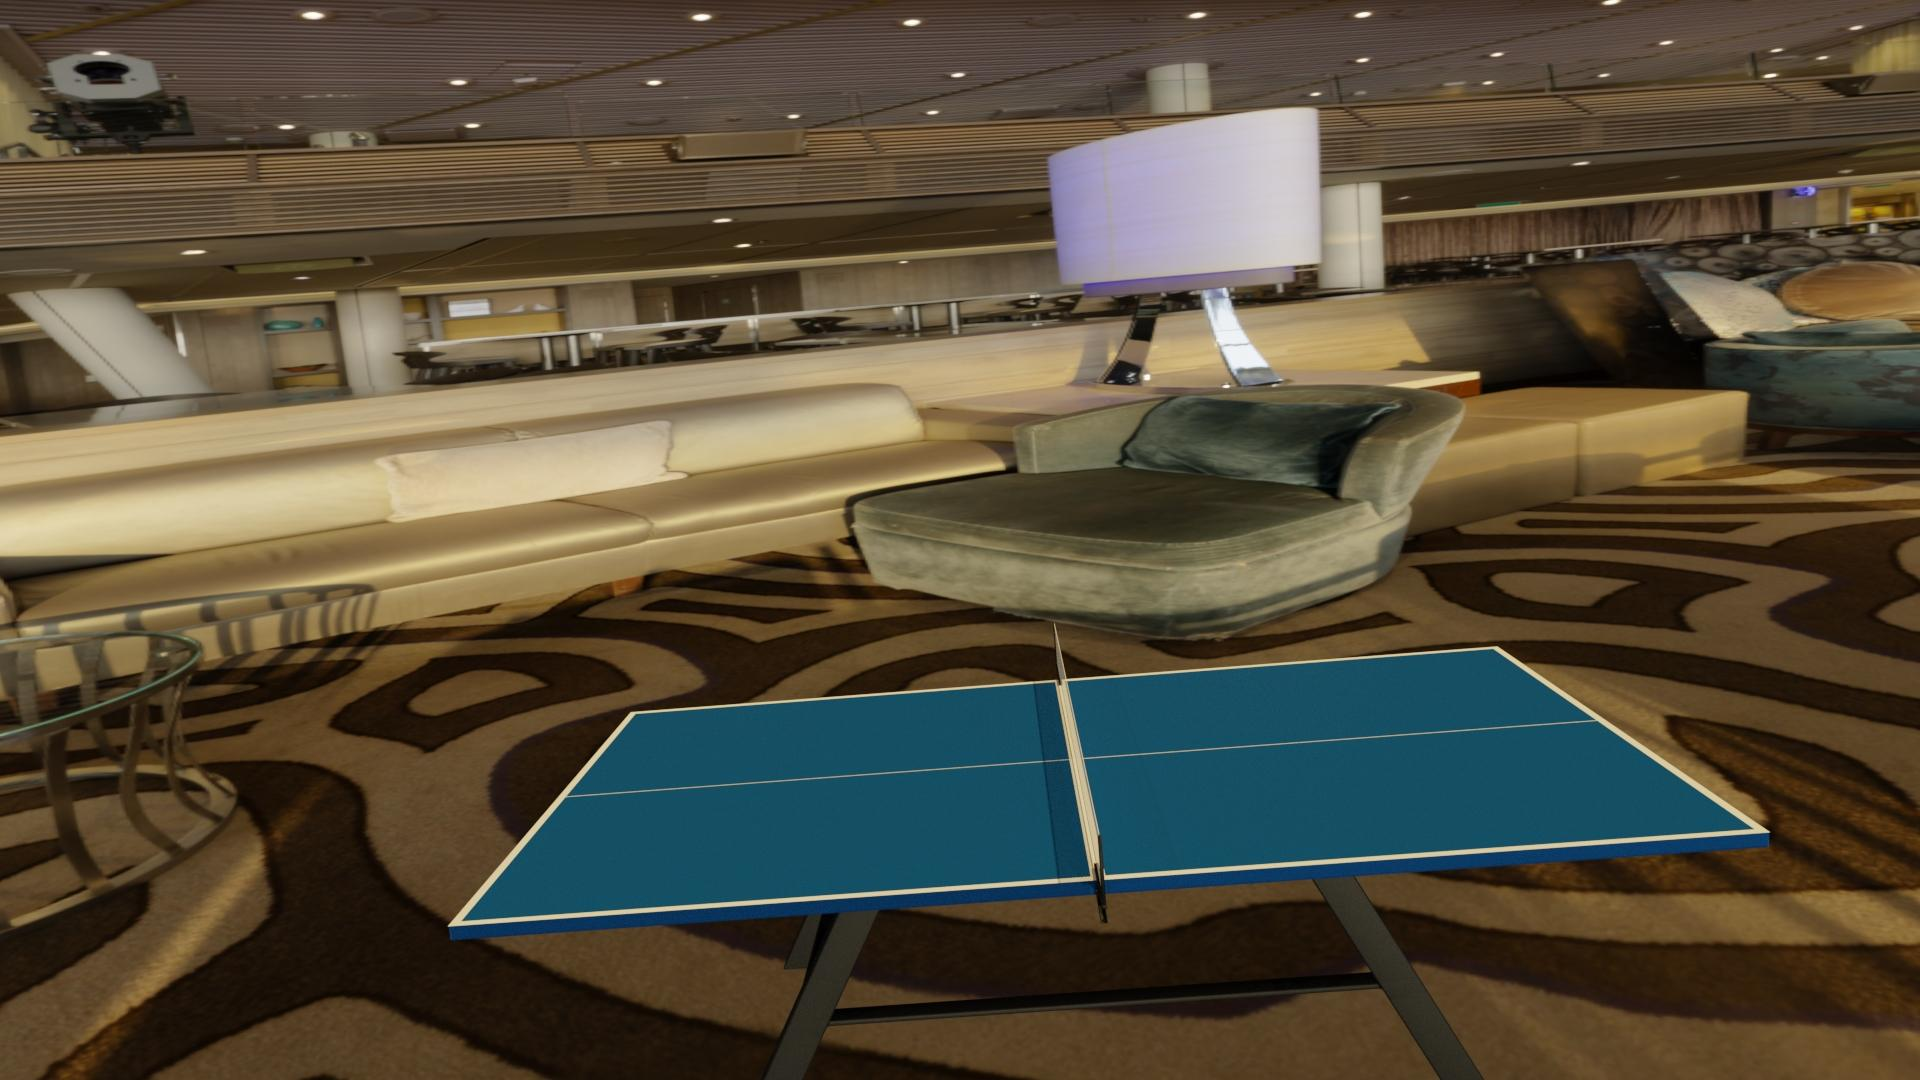table: (460, 649, 1755, 922)
